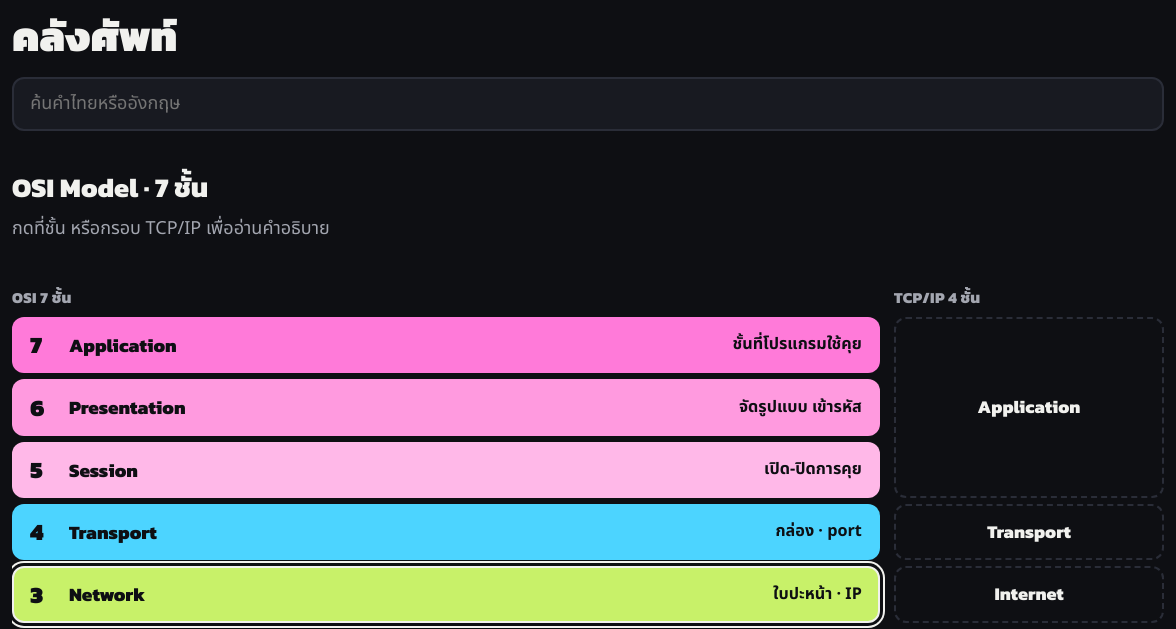
it: GlossaryPage: ค้นหา › ค้นคำที่ไม่มี บอกว่าไม่เจอ และไม่เหลือชั้นหรือการ์ด
The width and height of the screenshot is (1176, 629).
Type "zzzzqq" into the search field.
click(588, 104); type("zzzzqq")  # box [12,77,1164,131]
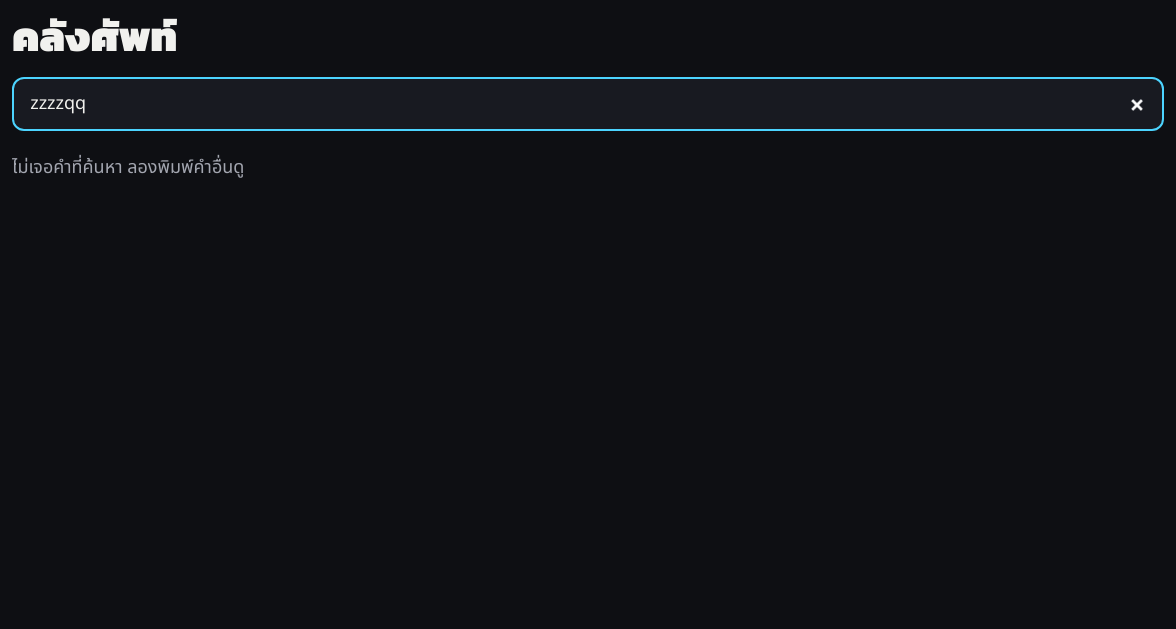
Expected: the text "ไม่เจอคำที่ค้นหา ลองพิมพ์คำอื่นดู" is shown, [12,154,244,181]
Expected: no buttons with class "tcp-box" are shown
